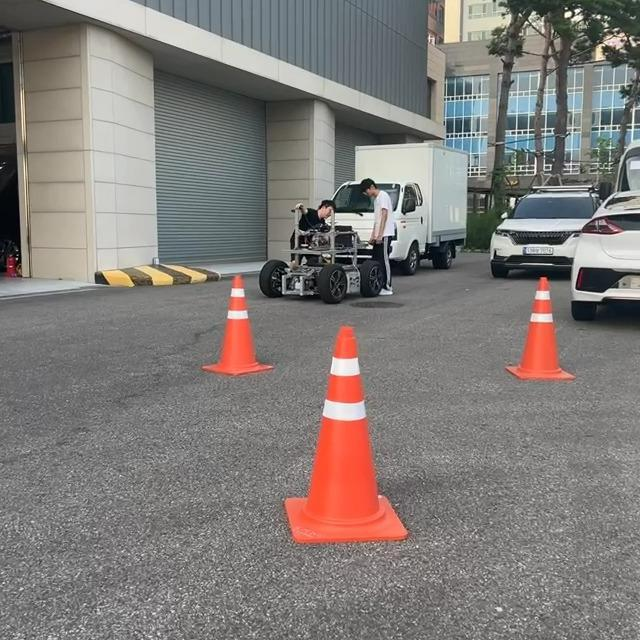fallen_object: (276, 313, 411, 542), (489, 245, 612, 424), (196, 275, 269, 403)
